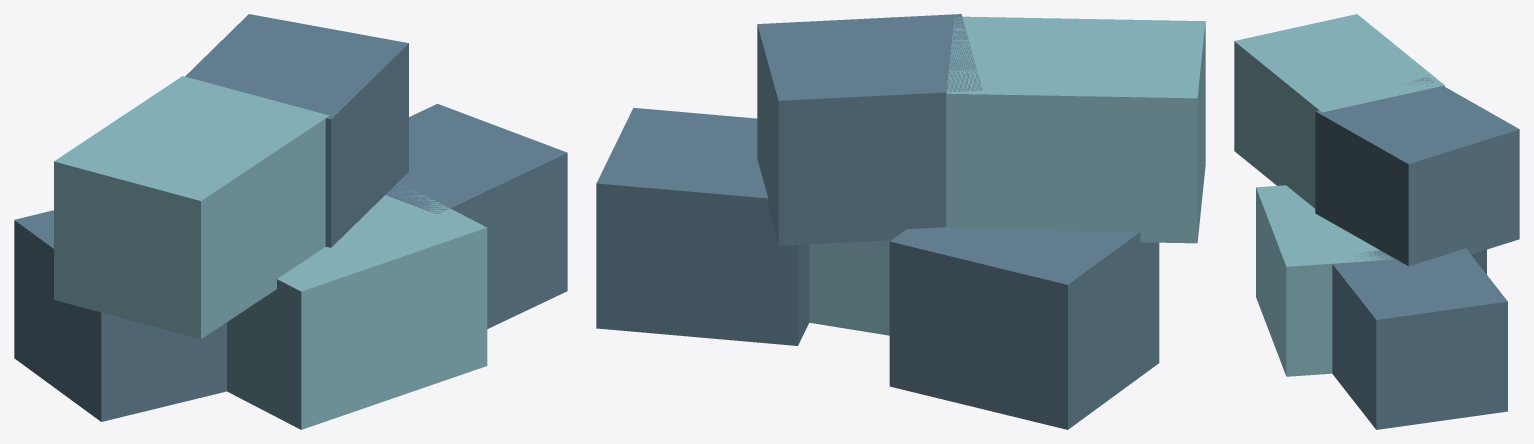
File: story-prop.glb
3 renders of one model, left to right at view 1: azimuth 30°, elevation 25°; view 2: azimuth 150°, elevation 25°; view 3: azimuth 270°, elevation 25°, orthographic. The views are drawn at different scales.
Parts seen in each view (by area): view 1: crate_3, crate_1, crate_4, crate_2, crate_0; view 2: crate_3, crate_0, crate_4, crate_2, crate_1; view 3: crate_4, crate_2, crate_3, crate_1.
Boxes of the visible parts, <box> form: crate_3: <box>54,76,329,339</box>; crate_1: <box>227,182,487,429</box>; crate_4: <box>185,14,408,247</box>; crate_2: <box>385,104,567,328</box>; crate_0: <box>14,210,226,421</box>; crate_3: <box>946,16,1205,243</box>; crate_0: <box>889,227,1159,429</box>; crate_4: <box>757,14,982,245</box>; crate_2: <box>596,107,809,345</box>; crate_1: <box>809,240,890,335</box>; crate_4: <box>1315,77,1519,266</box>; crate_2: <box>1332,248,1507,429</box>; crate_3: <box>1234,14,1444,208</box>; crate_1: <box>1256,185,1395,376</box>.
Size of what is drawn, in the model's own units: 2.79 by 1.35 by 1.65.
